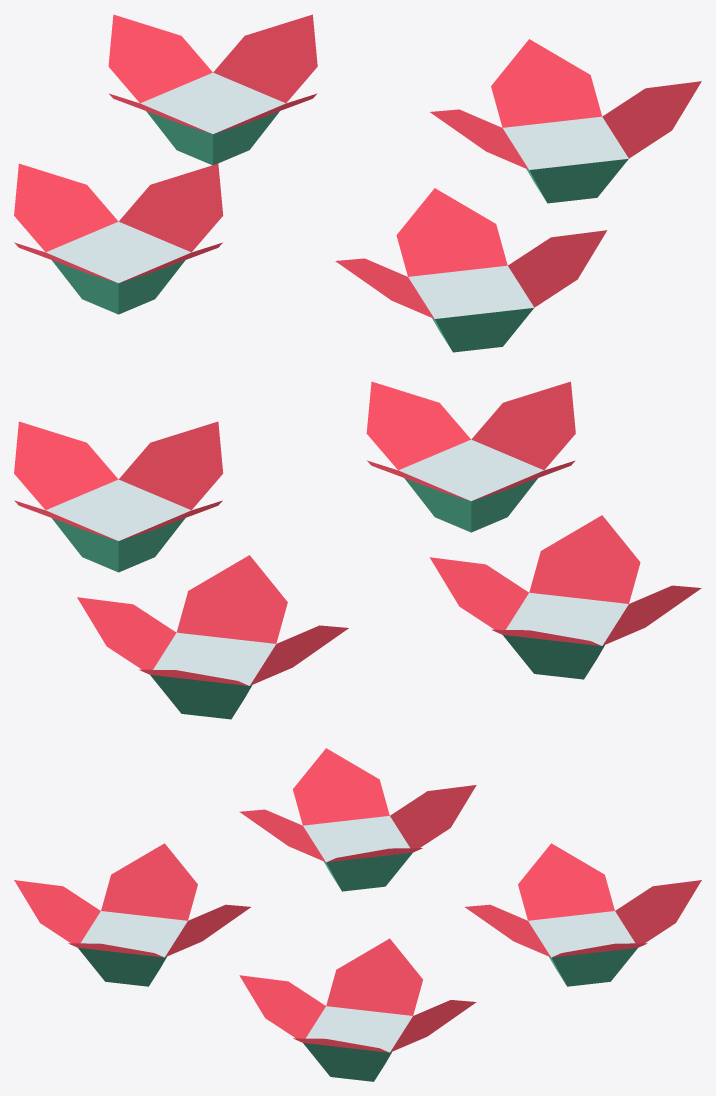
File: flowersLow.glb
The picture shows the model from 3 angles, top to bottom: view 1: azimuth 30°, elevation 25°; view 2: azimuth 150°, elevation 25°; view 3: azimuth 270°, elevation 25°; orthographic projection. The views are drawn at different scales.
Visible parts, largest first — view 1: flowersLow; view 2: flowersLow; view 3: flowersLow.
Boxes of the visible parts, x1,y1,x2,y2 form: flowersLow: (14,14,701,352); flowersLow: (14,381,701,719); flowersLow: (14,748,701,1081).
Bounding box in the file's own units: 0.7639 × 0.1 × 0.7639.
